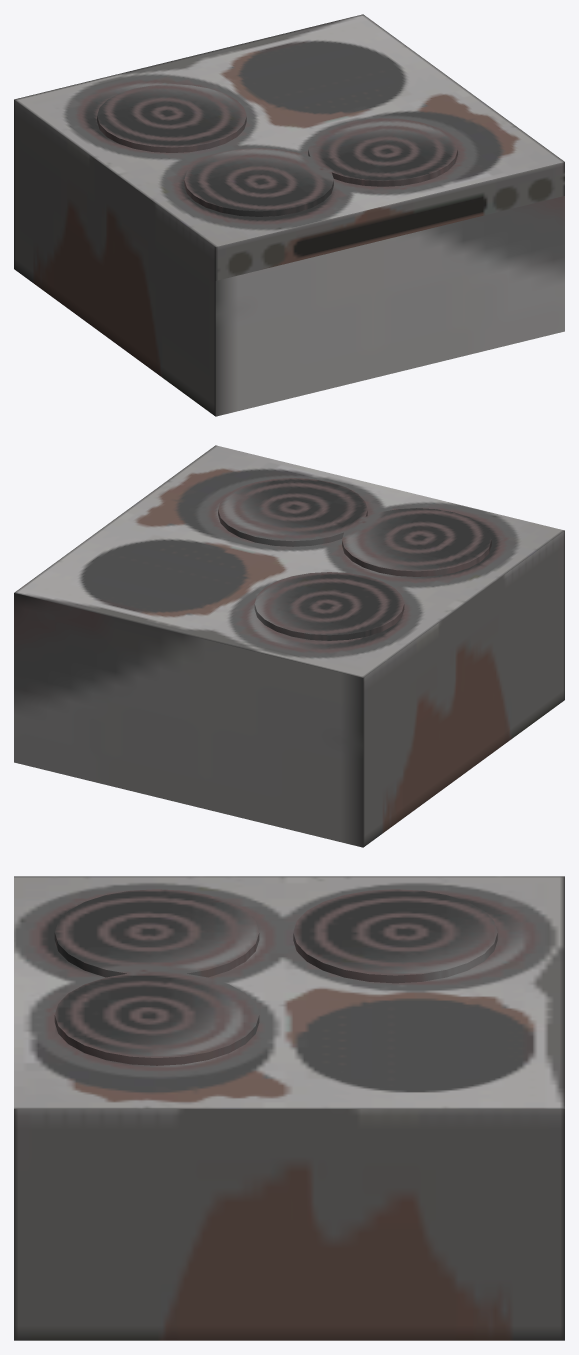
Rendered from Building_AncientStove.obj.
3 renders of one model, top to bottom at view 1: azimuth 30°, elevation 25°; view 2: azimuth 150°, elevation 25°; view 3: azimuth 270°, elevation 25°, orthographic. The views are drawn at different scales.
Parts seen in each view (by area): view 1: Body; view 2: Body; view 3: Body.
Part boxes in pixels (left/top/right/bottom): Body: left=14, top=14, right=564, bottom=416; Body: left=14, top=445, right=564, bottom=847; Body: left=14, top=876, right=564, bottom=1340.
Size of the model in its own units: 1.94 by 0.93 by 1.94.
1 material, 1 textured.
